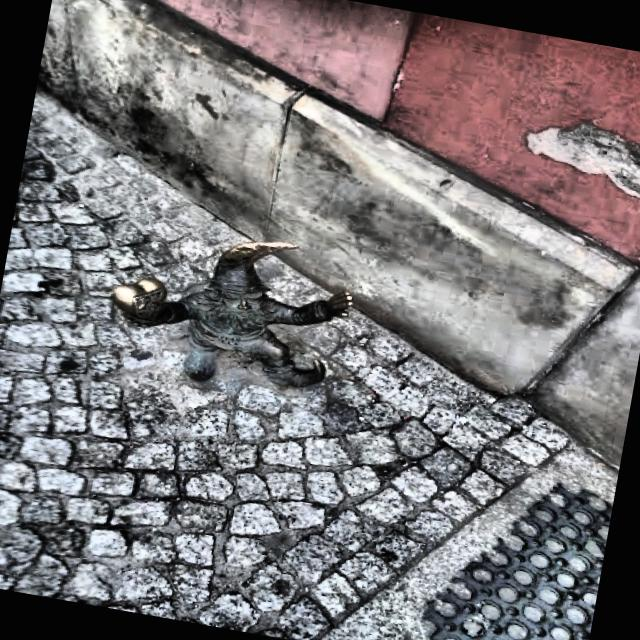WrocLovek: (104, 215, 366, 404)
